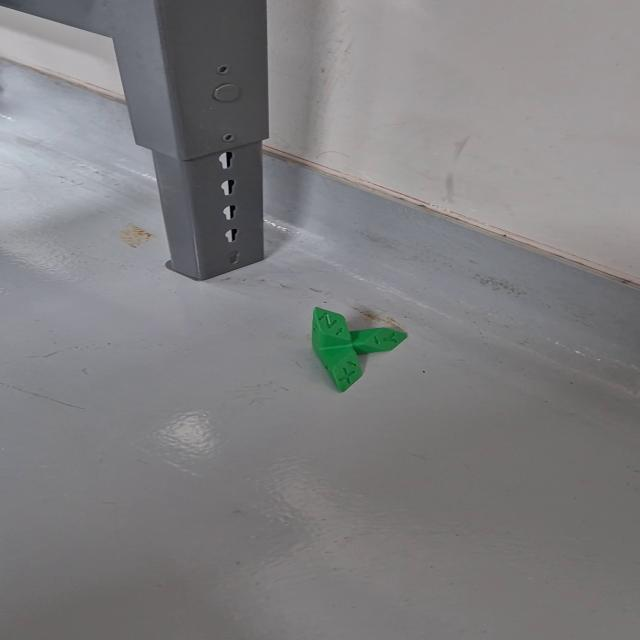objects: (296, 303, 415, 397)
